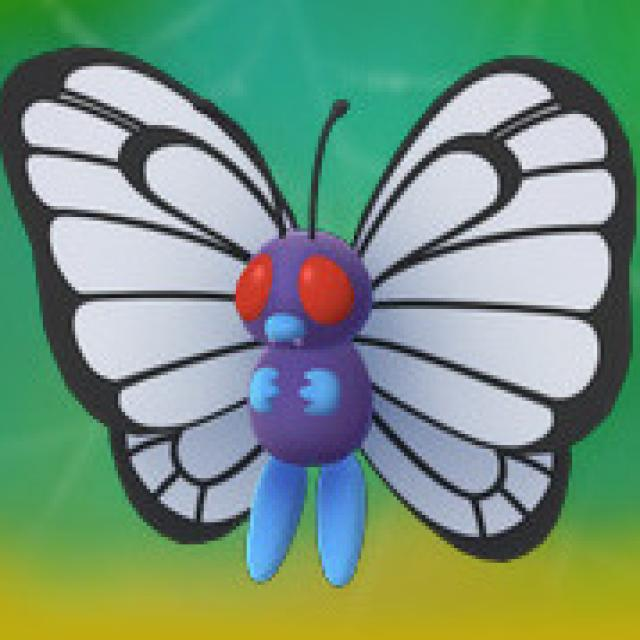Butterfree: (118, 125, 517, 558)
